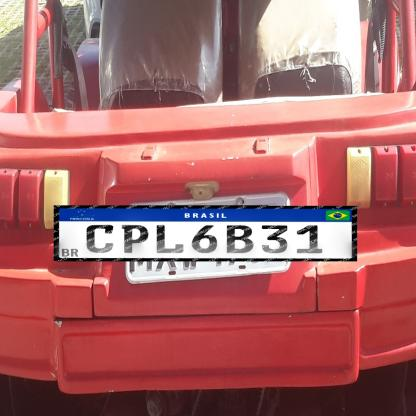PlacaM: (54, 206, 357, 262)
